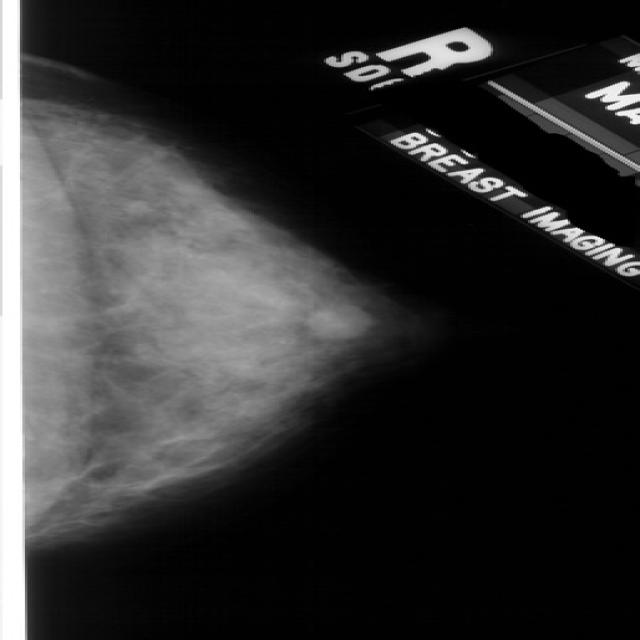tumour: (301, 303, 371, 338)
